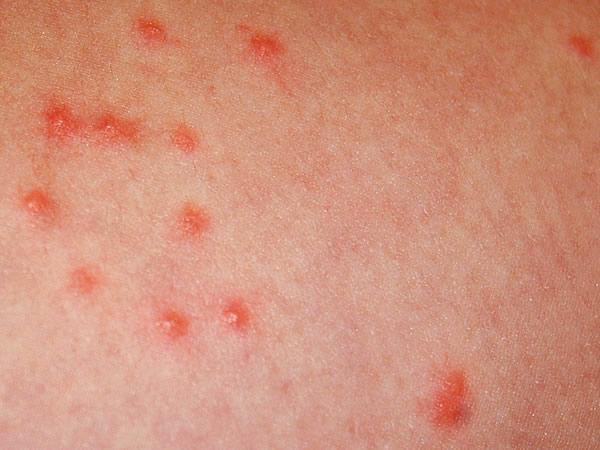Fleas: (426, 365, 478, 434), (168, 199, 214, 245), (18, 182, 61, 225), (165, 119, 207, 160), (93, 113, 139, 145), (246, 32, 285, 63), (44, 102, 77, 138), (134, 16, 172, 46), (564, 29, 598, 61), (154, 312, 188, 342), (69, 265, 101, 293), (224, 299, 250, 331)
